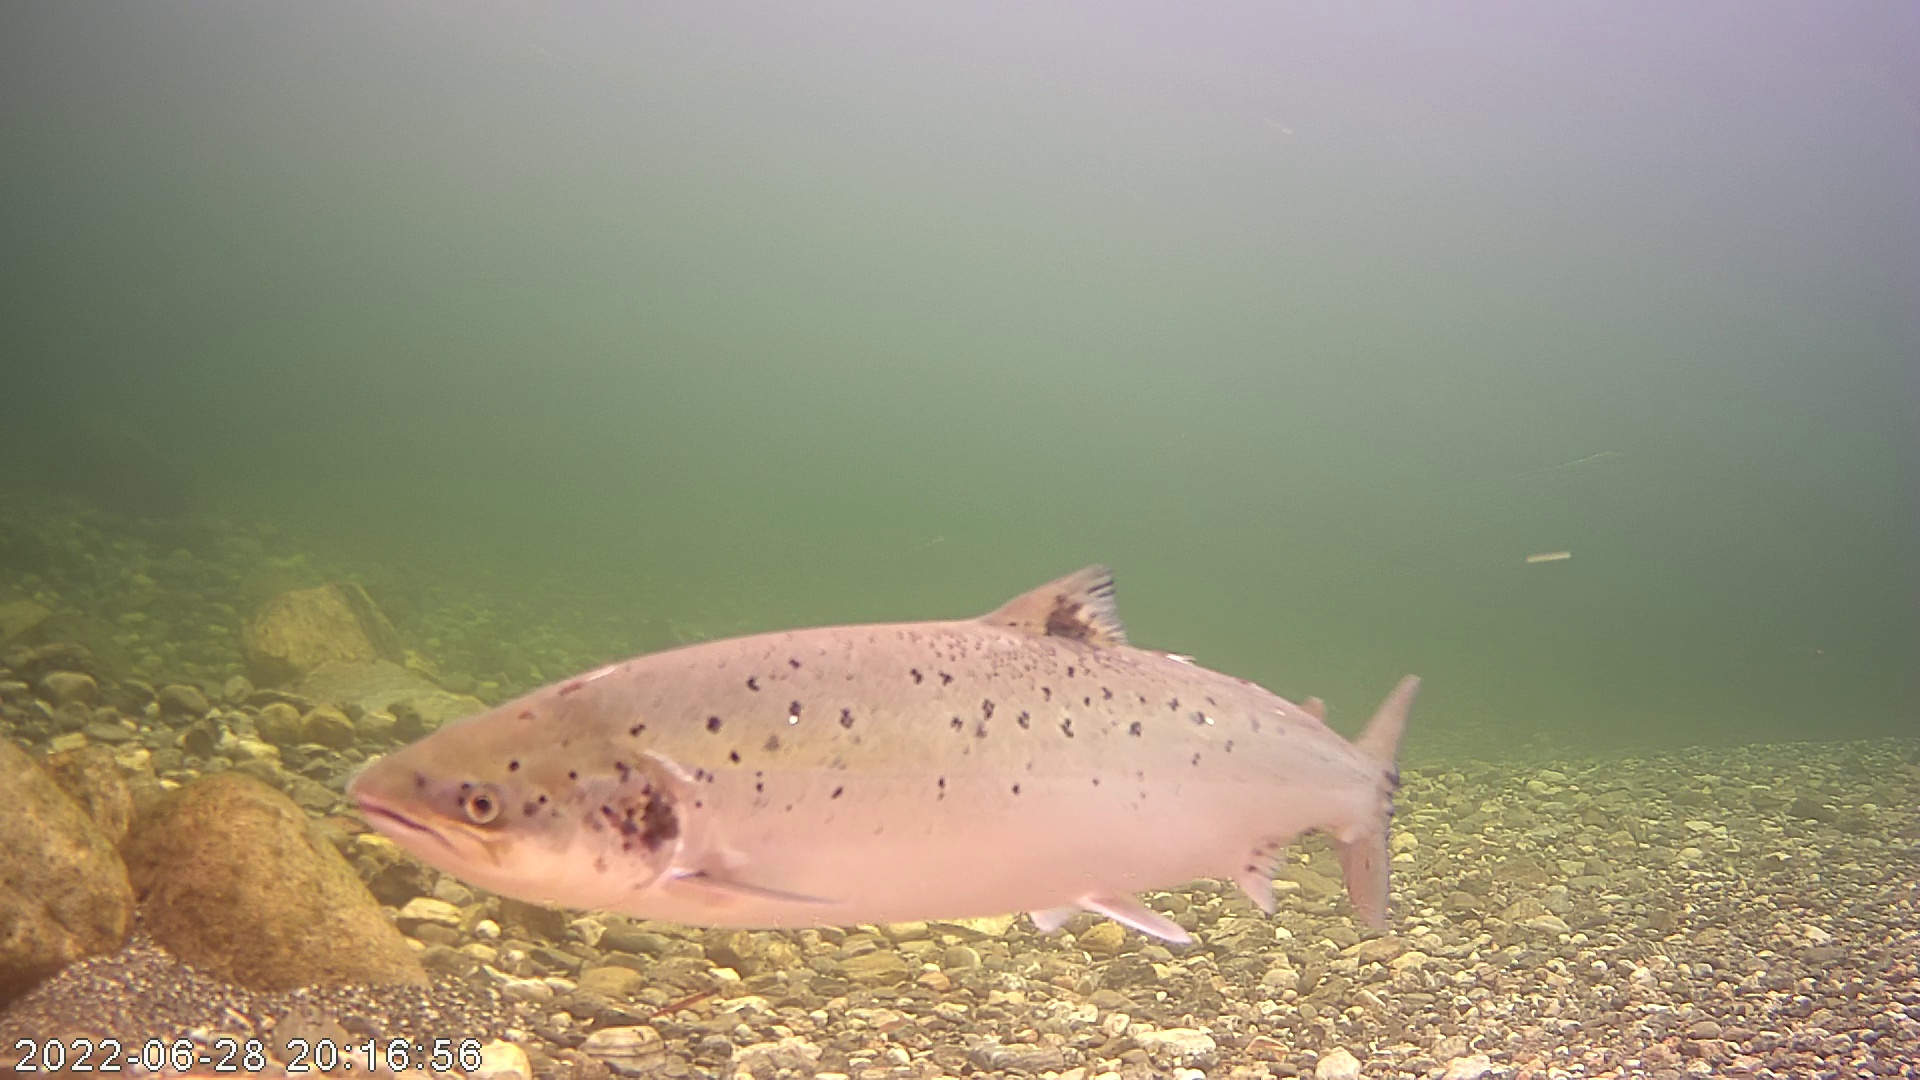salmon: (322, 546, 1427, 947)
